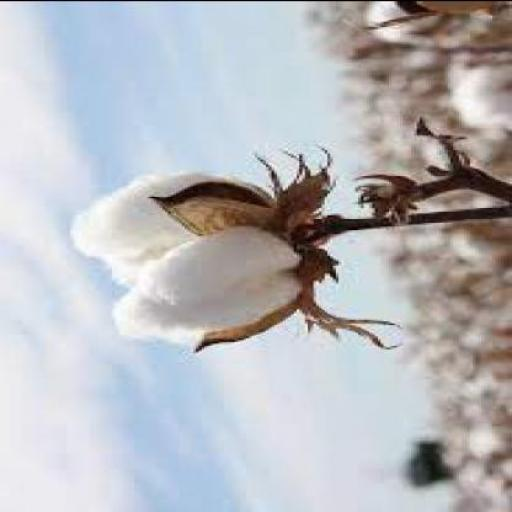cotton_ready: (84, 151, 333, 387)
